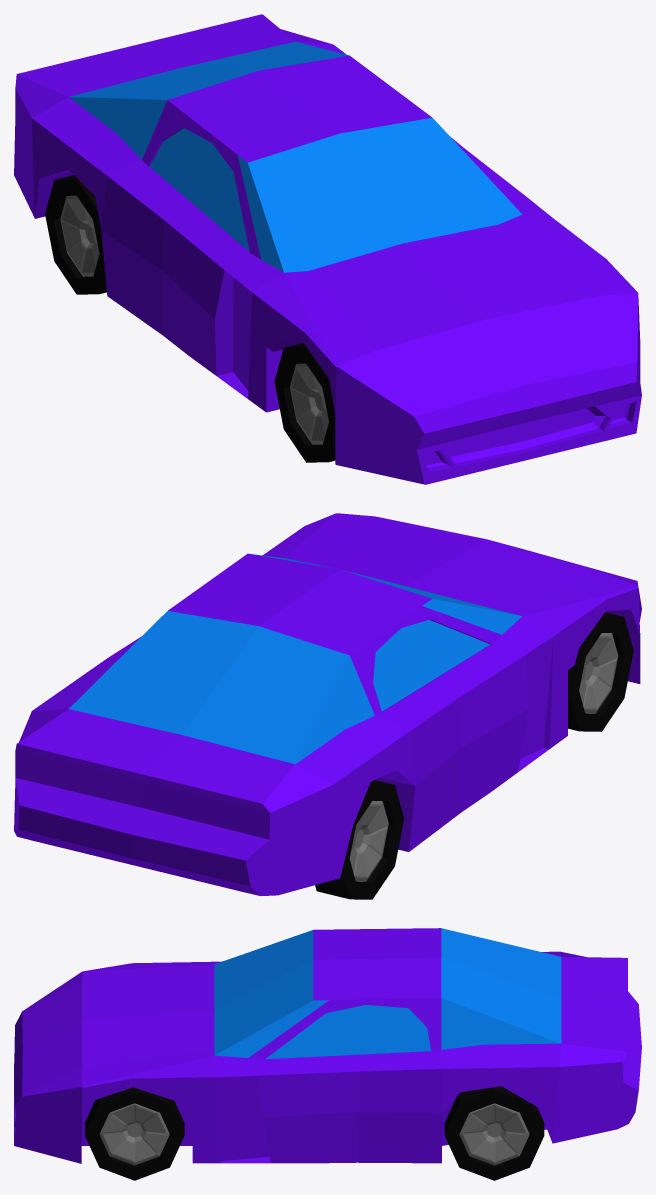
3 views of the same model, one above another, from view 1: azimuth 30°, elevation 25°; view 2: azimuth 150°, elevation 25°; view 3: azimuth 270°, elevation 25° (orthographic). The views are drawn at different scales.
Parts seen in each view (by area): view 1: Body, Front Right, Rear Right; view 2: Body, Front Right, Rear Right; view 3: Body, Rear Left, Front Left.
Part boxes in pixels (<box>): Body: <box>14,14,641,484</box>; Front Right: <box>274,343,335,462</box>; Rear Right: <box>45,175,106,294</box>; Body: <box>14,513,641,896</box>; Front Right: <box>568,612,633,731</box>; Rear Right: <box>315,780,403,899</box>; Body: <box>14,928,641,1163</box>; Rear Left: <box>444,1086,544,1180</box>; Front Left: <box>85,1087,184,1180</box>.
Bounding box in the file's own units: 444 × 130 × 201.
